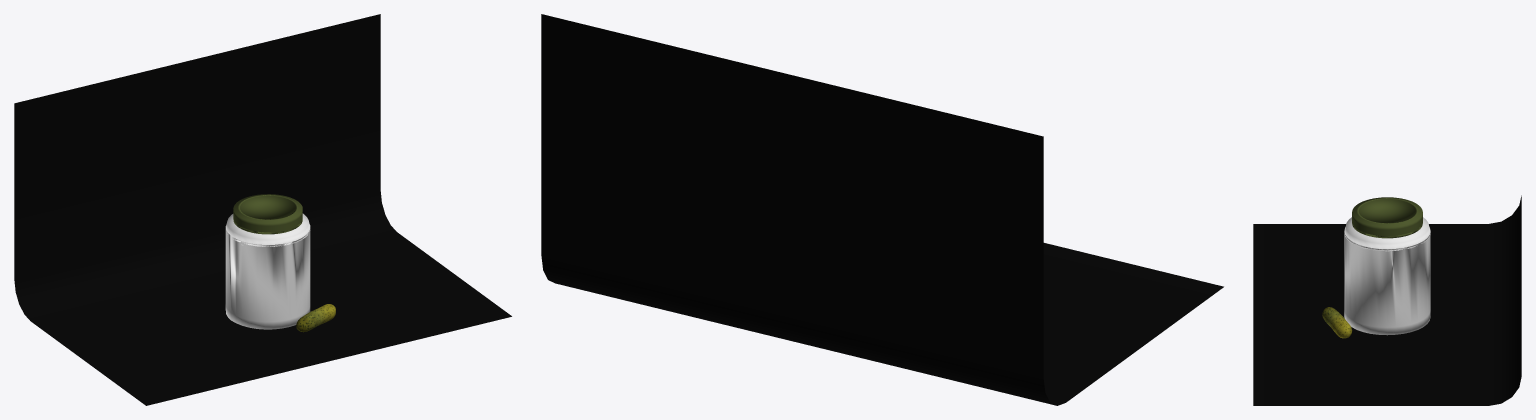
File: juice.glb
The picture shows the model from 3 angles, left to right: view 1: azimuth 30°, elevation 25°; view 2: azimuth 150°, elevation 25°; view 3: azimuth 270°, elevation 25°; orthographic projection. The views are drawn at different scales.
Visible parts, largest first — view 1: Plane, jar, lid, pickle; view 2: Plane; view 3: Plane, jar, lid, pickle.
Part boxes in pixels (x1=…): Plane: x1=14, y1=14, x2=511, y2=405; jar: x1=225, y1=213, x2=310, y2=329; lid: x1=233, y1=194, x2=302, y2=234; pickle: x1=296, y1=304, x2=335, y2=332; Plane: x1=541, y1=14, x2=1223, y2=405; Plane: x1=1253, y1=195, x2=1521, y2=405; jar: x1=1344, y1=217, x2=1430, y2=335; lid: x1=1352, y1=197, x2=1422, y2=238; pickle: x1=1322, y1=307, x2=1352, y2=338.
Size of the model in its own units: 9.98 by 6.39 by 6.22.
5 materials, 1 textured.
